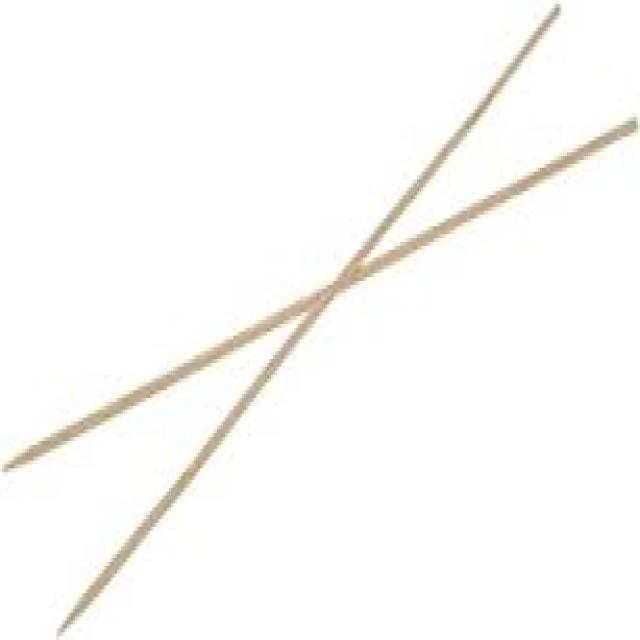stick: (63, 6, 560, 633), (3, 123, 637, 471)
